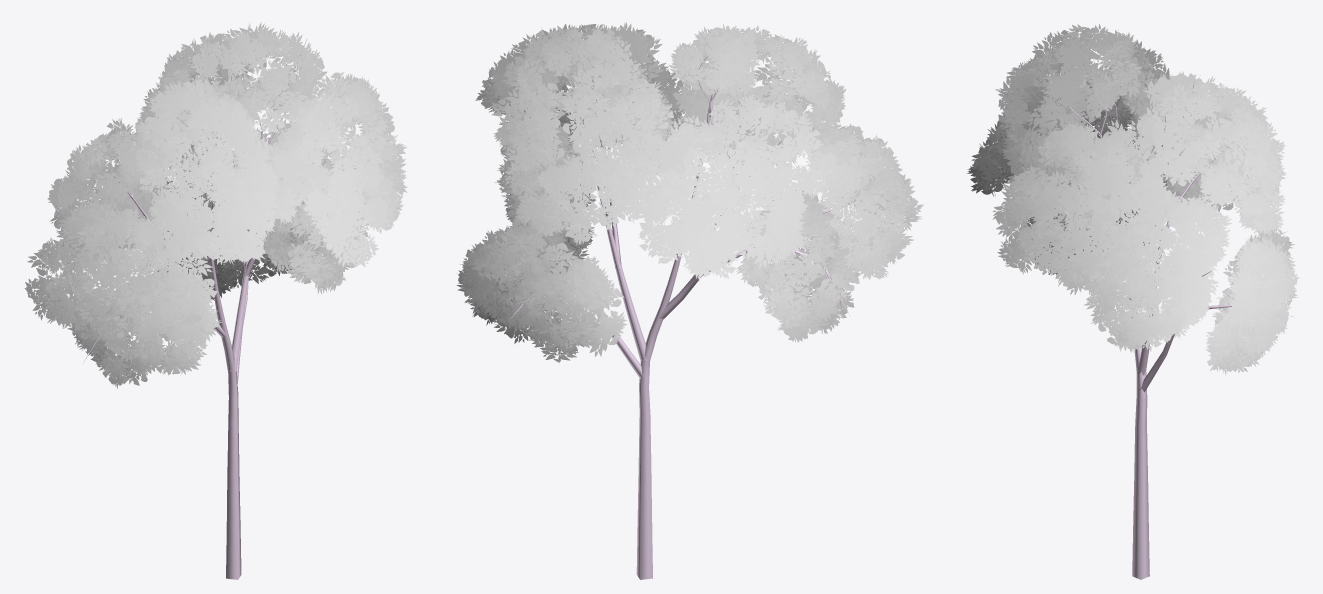
Rendered from Tree.fbx.
3 renders of one model, left to right at view 1: azimuth 30°, elevation 25°; view 2: azimuth 150°, elevation 25°; view 3: azimuth 270°, elevation 25°, orthographic. The views are drawn at different scales.
Parts seen in each view (by area): view 1: leaves, Trunk; view 2: leaves, Trunk; view 3: leaves, Trunk.
Part boxes in pixels (left/top/right/bottom): leaves: left=24, top=22, right=407, bottom=388; Trunk: left=83, top=30, right=307, bottom=579; leaves: left=456, top=22, right=923, bottom=362; Trunk: left=504, top=27, right=861, bottom=579; leaves: left=967, top=24, right=1299, bottom=375; Trunk: left=1070, top=49, right=1294, bottom=579.
Size of the model in its own units: 510 by 655 by 398.
